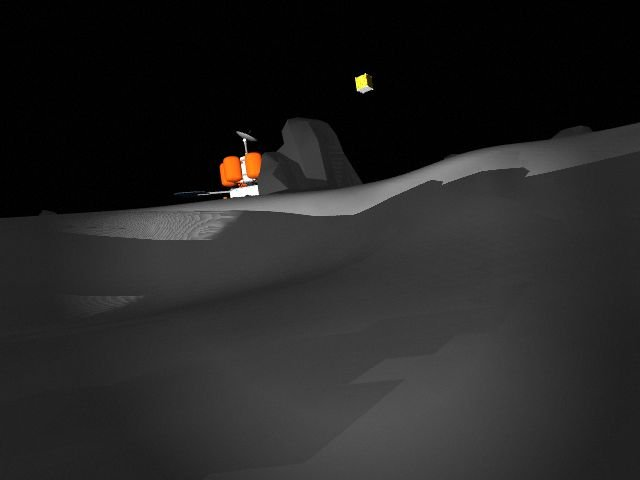cubesat: (350, 69, 383, 98)
